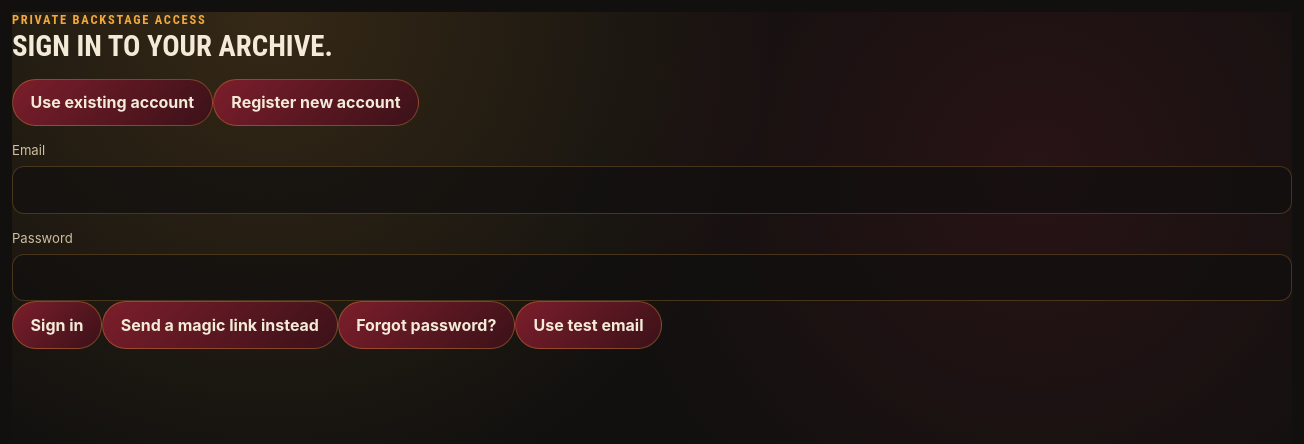
Scenario: AuthPage › submits email magic link request
Type "player@example.com" into the field labelled "Email".
click(652, 190); type("player@example.com")  # box [12,166,1292,214]
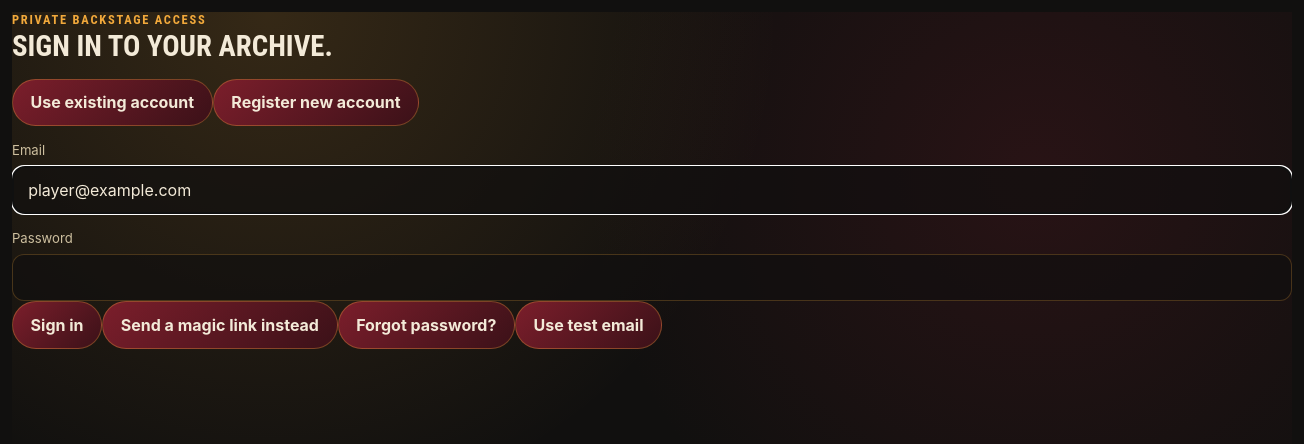
Click the button "Send a magic link instead".
click(220, 325)  # box [102,302,338,349]
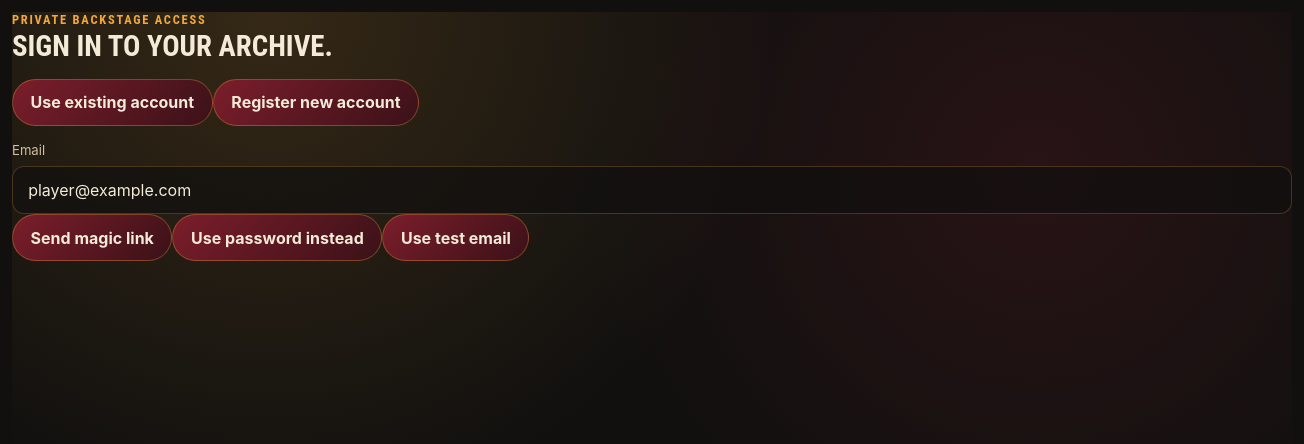
Click the button "Send magic link".
click(92, 238)  # box [12,214,172,262]
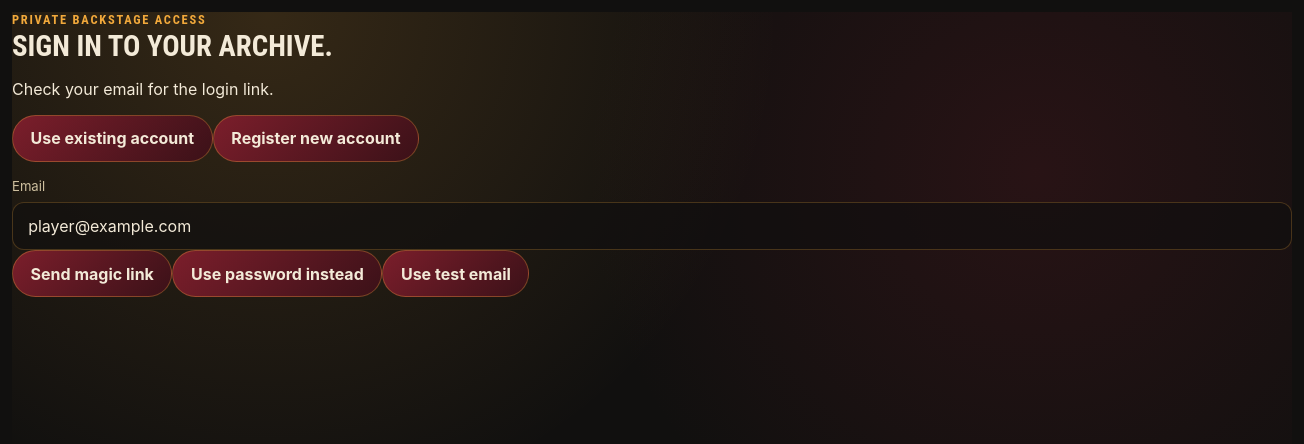
Expected: the text "Check your email for the login link." is shown, [12,79,274,99]
